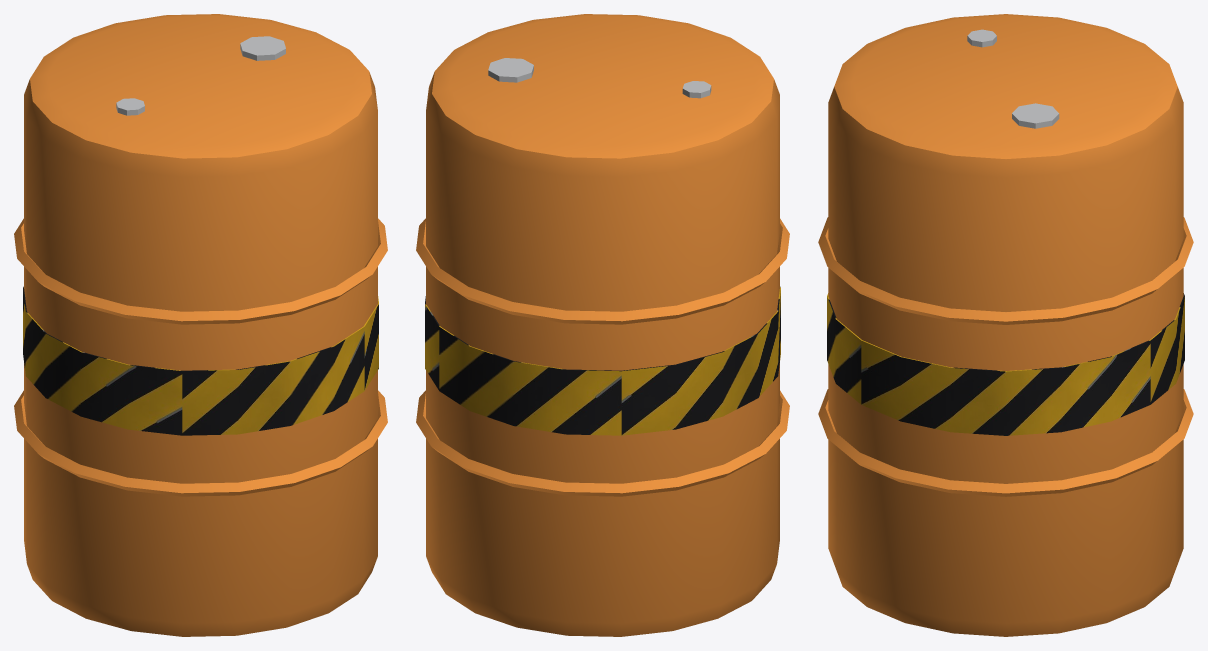
Rendered from barrel.glb.
3 renders of one model, left to right at view 1: azimuth 30°, elevation 25°; view 2: azimuth 150°, elevation 25°; view 3: azimuth 270°, elevation 25°, orthographic.
Visible parts, largest first — view 1: barrel; view 2: barrel; view 3: barrel.
Boxes of the visible parts, x1=… form: barrel: x1=14, y1=14, x2=387, y2=636; barrel: x1=416, y1=14, x2=789, y2=636; barrel: x1=818, y1=14, x2=1193, y2=636.
Bounding box in the file's own units: 0.634 × 0.91 × 0.634.
Materials: 3 (1 with a texture image).
